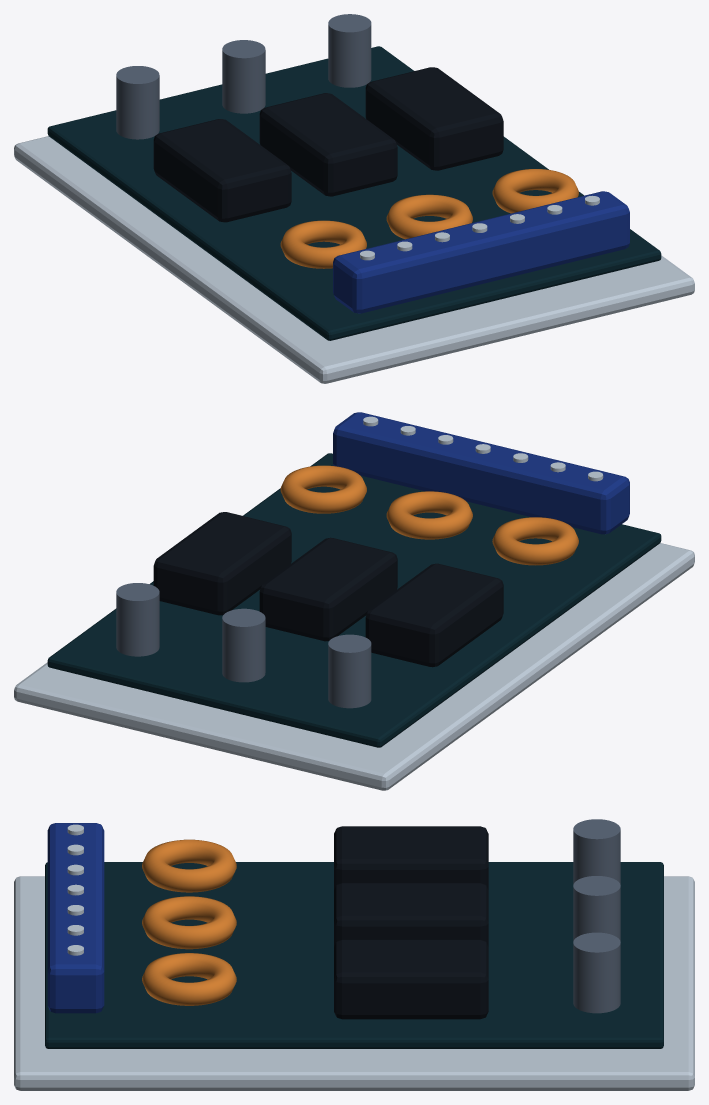
Rendered from Component_power_controller.glb.
The picture shows the model from 3 angles, top to bottom: view 1: azimuth 30°, elevation 25°; view 2: azimuth 150°, elevation 25°; view 3: azimuth 270°, elevation 25°; orthographic projection. The views are drawn at different scales.
Visible parts, largest first — view 1: EPS_board, EPS_backplate, EPS_terminal, EPS_converter, EPS_converter.002, EPS_converter.001, EPS_capacitor.001, EPS_capacitor.002, EPS_capacitor, EPS_inductor, EPS_inductor.002, EPS_inductor.001; view 2: EPS_board, EPS_backplate, EPS_terminal, EPS_converter, EPS_converter.002, EPS_converter.001, EPS_inductor.002, EPS_inductor, EPS_inductor.001, EPS_capacitor, EPS_capacitor.001, EPS_capacitor.002; view 3: EPS_board, EPS_backplate, EPS_converter.002, EPS_terminal, EPS_converter, EPS_converter.001, EPS_inductor.001, EPS_inductor, EPS_inductor.002, EPS_capacitor.002, EPS_capacitor.001, EPS_capacitor.
Boxes of the visible parts, left/top/right/bottom form: EPS_board: left=47, top=46, right=661, bottom=340; EPS_backplate: left=14, top=136, right=694, bottom=383; EPS_terminal: left=333, top=191, right=629, bottom=313; EPS_converter: left=153, top=119, right=291, bottom=222; EPS_converter.002: left=365, top=67, right=503, bottom=170; EPS_converter.001: left=259, top=93, right=397, bottom=196; EPS_capacitor.001: left=222, top=40, right=265, bottom=113; EPS_capacitor.002: left=328, top=14, right=371, bottom=87; EPS_capacitor: left=116, top=66, right=159, bottom=139; EPS_inductor: left=280, top=220, right=366, bottom=268; EPS_inductor.002: left=492, top=169, right=578, bottom=213; EPS_inductor.001: left=386, top=194, right=472, bottom=239; EPS_board: left=47, top=453, right=661, bottom=747; EPS_backplate: left=14, top=543, right=694, bottom=790; EPS_terminal: left=333, top=412, right=629, bottom=534; EPS_converter: left=365, top=563, right=503, bottom=667; EPS_converter.002: left=153, top=512, right=291, bottom=615; EPS_converter.001: left=259, top=537, right=397, bottom=641; EPS_inductor.002: left=280, top=465, right=366, bottom=513; EPS_inductor: left=492, top=517, right=578, bottom=565; EPS_inductor.001: left=386, top=491, right=472, bottom=539; EPS_capacitor: left=328, top=634, right=371, bottom=708; EPS_capacitor.001: left=222, top=608, right=265, bottom=682; EPS_capacitor.002: left=116, top=583, right=159, bottom=656; EPS_board: left=45, top=862, right=663, bottom=1048; EPS_backplate: left=14, top=876, right=694, bottom=1090; EPS_converter.002: left=334, top=939, right=488, bottom=1019; EPS_terminal: left=47, top=823, right=104, bottom=1013; EPS_converter: left=334, top=826, right=488, bottom=889; EPS_converter.001: left=334, top=883, right=488, bottom=946; EPS_inductor.001: left=142, top=896, right=236, bottom=949; EPS_inductor: left=142, top=839, right=236, bottom=892; EPS_inductor.002: left=142, top=953, right=236, bottom=1005; EPS_capacitor.002: left=573, top=932, right=620, bottom=1013; EPS_capacitor.001: left=573, top=876, right=620, bottom=941; EPS_capacitor: left=573, top=819, right=620, bottom=884.
Size of the model in its own units: 0.46 by 0.1145 by 0.66.
